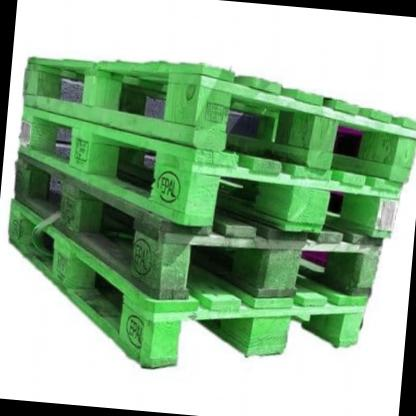BoxFace: (8, 202, 369, 374), (11, 150, 386, 298), (15, 107, 407, 243), (24, 55, 416, 186)
